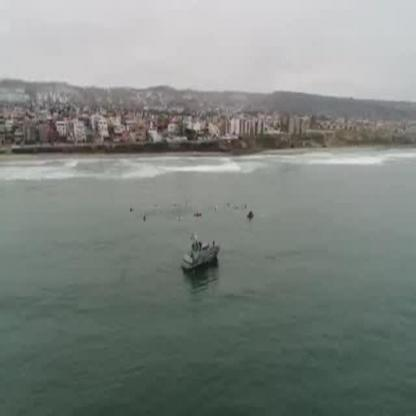Boat: (179, 233, 225, 277)
